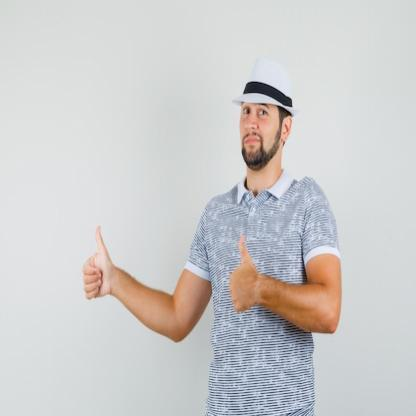thumb_up: (227, 231, 261, 314), (81, 224, 116, 302)
